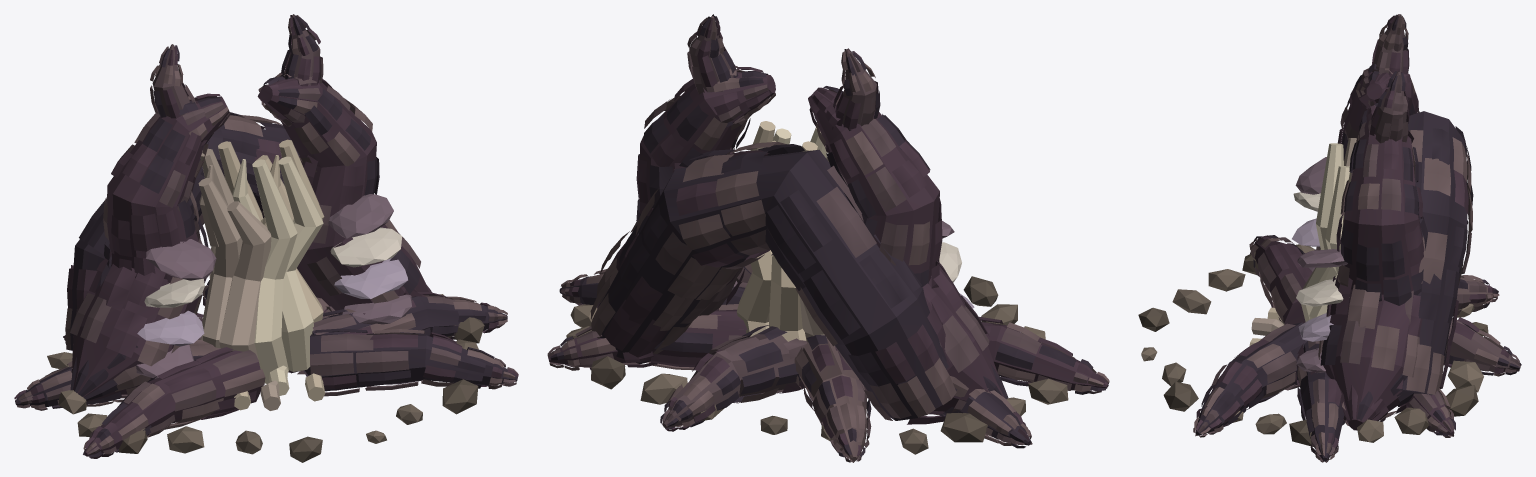
The model's file is source.glb.
3 renders of one model, left to right at view 1: azimuth 30°, elevation 25°; view 2: azimuth 150°, elevation 25°; view 3: azimuth 270°, elevation 25°, orthographic. The views are drawn at different scales.
Visible parts, largest first — view 1: Rootbound Hall · evaluated preview mesh; view 2: Rootbound Hall · evaluated preview mesh; view 3: Rootbound Hall · evaluated preview mesh.
Boxes of the visible parts, x1=… form: Rootbound Hall · evaluated preview mesh: x1=14, y1=14, x2=518, y2=462; Rootbound Hall · evaluated preview mesh: x1=547, y1=14, x2=1109, y2=462; Rootbound Hall · evaluated preview mesh: x1=1138, y1=14, x2=1521, y2=462.
Size of the model in its own units: 7.2 by 5.03 by 5.42.
